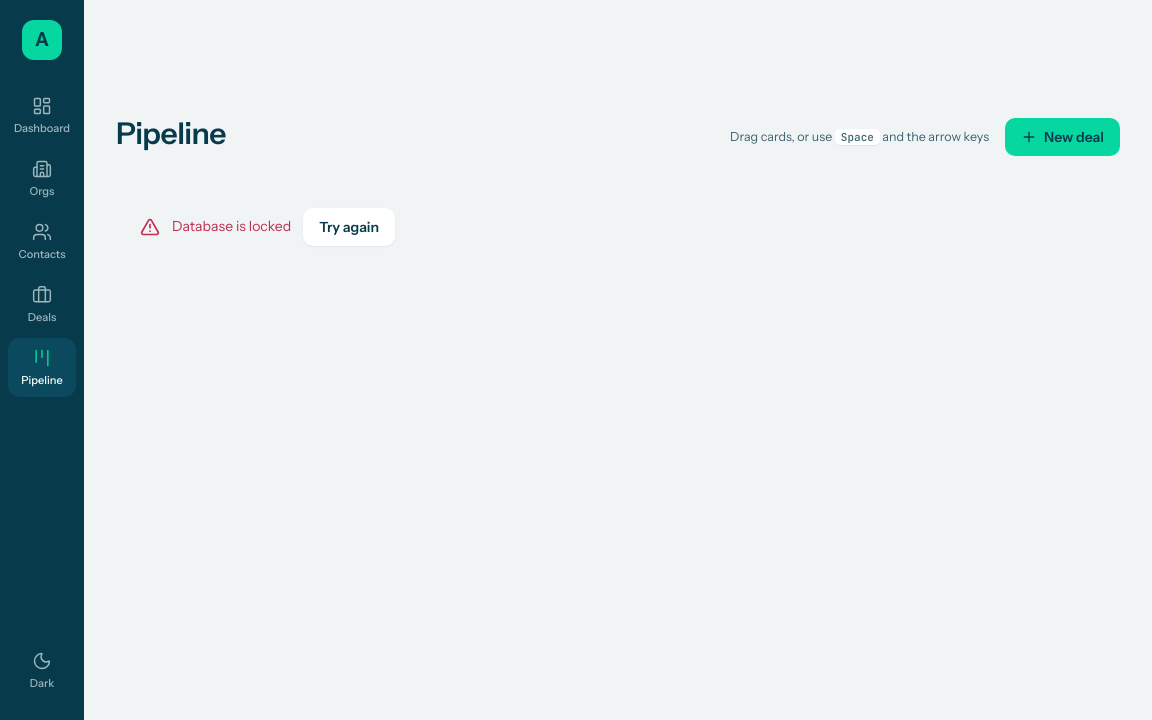
Test: Pipeline page › says why the pipeline couldn't load, and loads it on Try again
Expected: the message shows "Database is locked", [172,218,291,236]
What coordinates should you click on to do the following:
click the button "Try again"
I would click on:
 (349, 227)
Its box is [303,208,395,246].
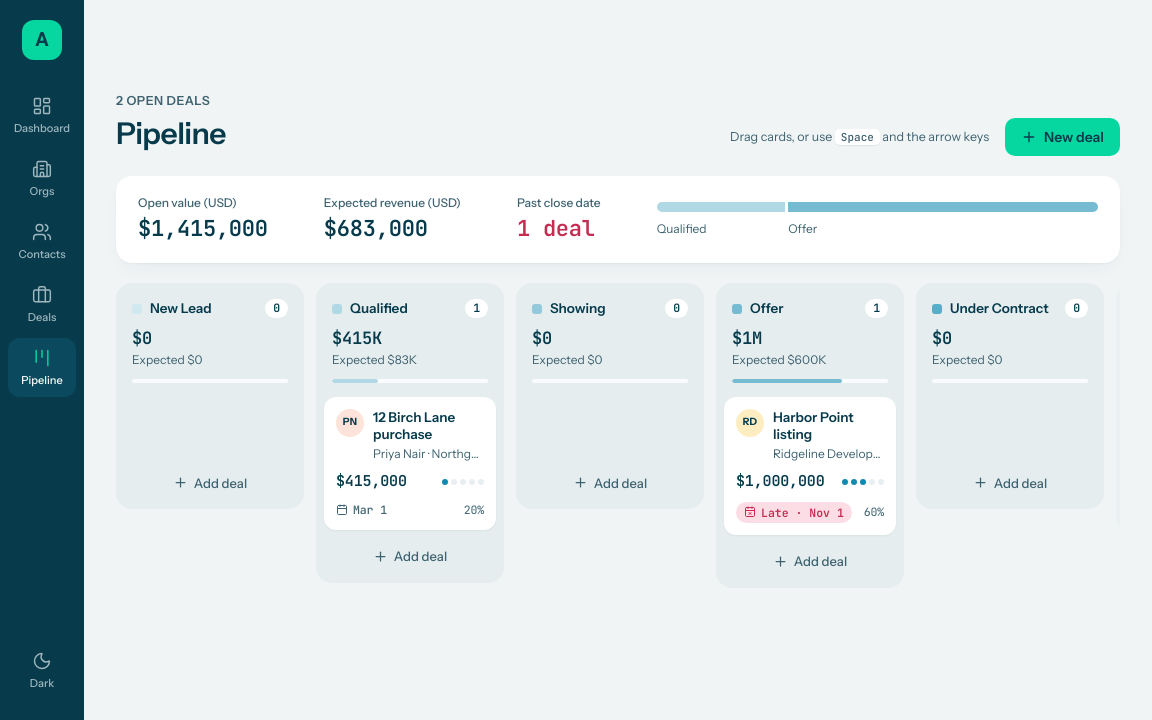
Expected: the element named "Offer column" is shown, [716,283,904,588]
